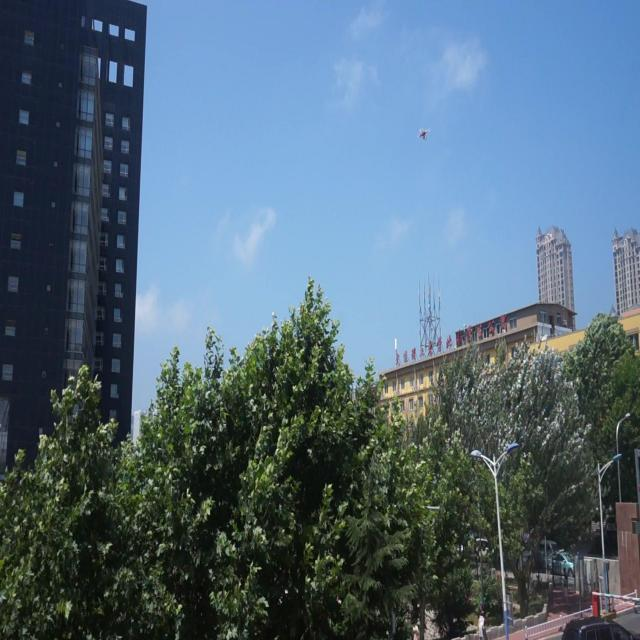UAV: (416, 127, 431, 141)
